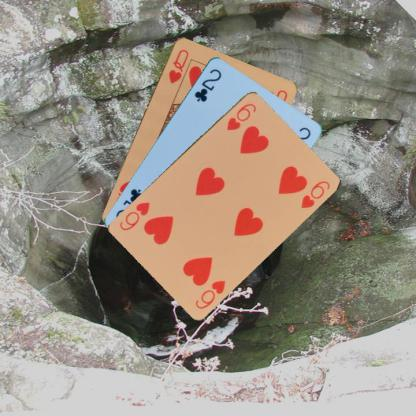2c: (192, 66, 223, 104)
6h: (192, 276, 227, 310), (224, 100, 258, 132)
Qh: (166, 46, 190, 85)
